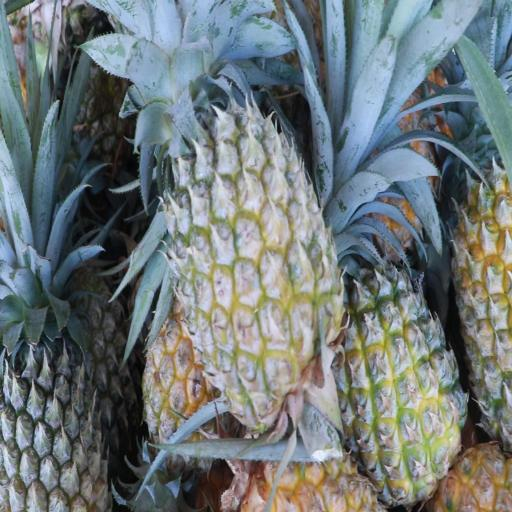------------------------------: (180, 94, 337, 418)
Pineapple - v8 v1: (345, 276, 464, 504), (453, 171, 512, 436)
